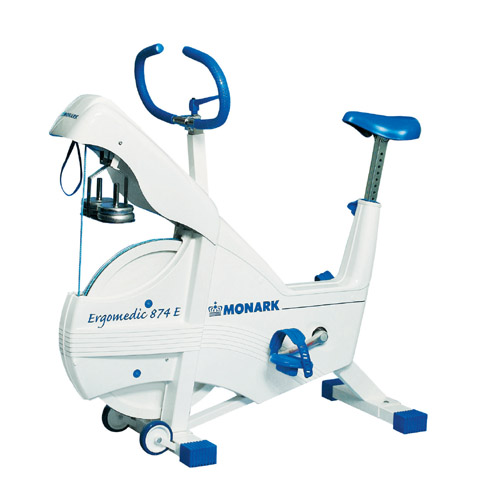gym_bike: (34, 31, 445, 475)
